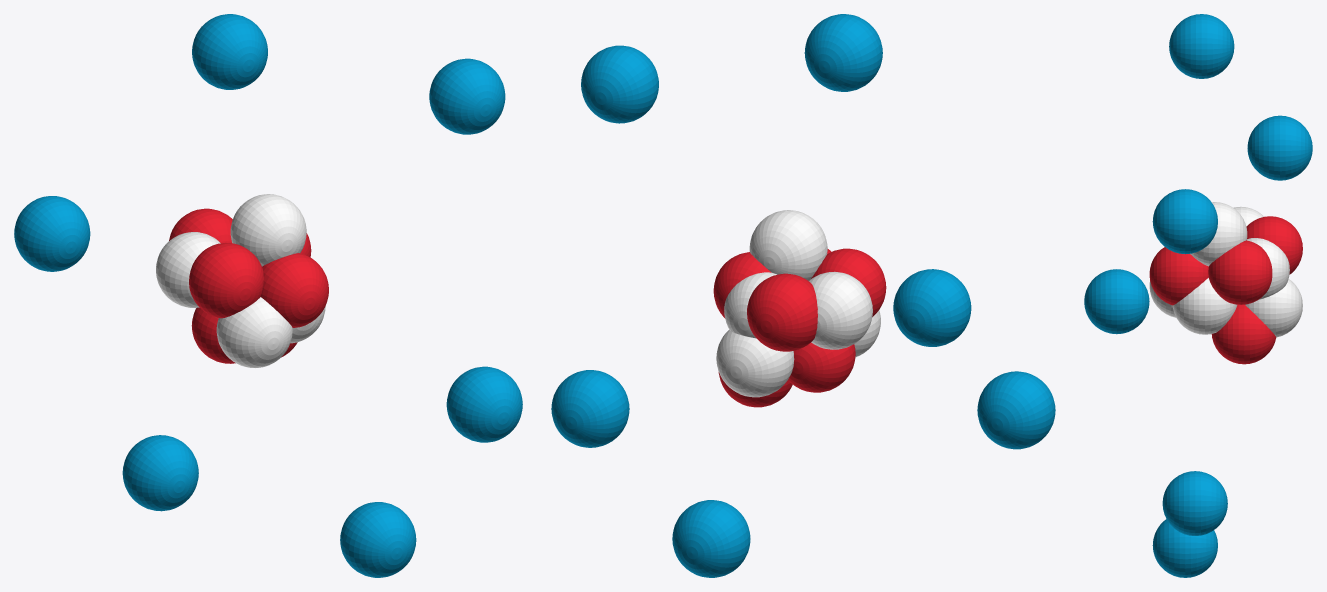
The model's file is atom.obj.
The picture shows the model from 3 angles, left to right: view 1: azimuth 30°, elevation 25°; view 2: azimuth 150°, elevation 25°; view 3: azimuth 270°, elevation 25°; orthographic projection. The views are drawn at different scales.
Parts seen in each view (by area): view 1: group_0_40919, group_0_15277357, group_0_16448250; view 2: group_0_40919, group_0_16448250, group_0_15277357; view 3: group_0_40919, group_0_15277357, group_0_16448250.
Part boxes in pixels (bbox=[...]): group_0_40919: bbox=[14, 14, 522, 577]; group_0_15277357: bbox=[169, 208, 328, 363]; group_0_16448250: bbox=[156, 194, 325, 367]; group_0_40919: bbox=[551, 14, 1055, 577]; group_0_16448250: bbox=[716, 210, 880, 397]; group_0_15277357: bbox=[713, 248, 886, 407]; group_0_40919: bbox=[1084, 14, 1312, 577]; group_0_15277357: bbox=[1149, 216, 1302, 364]; group_0_16448250: bbox=[1149, 202, 1302, 337].
Size of the model in its own units: 136 by 169 by 70.
